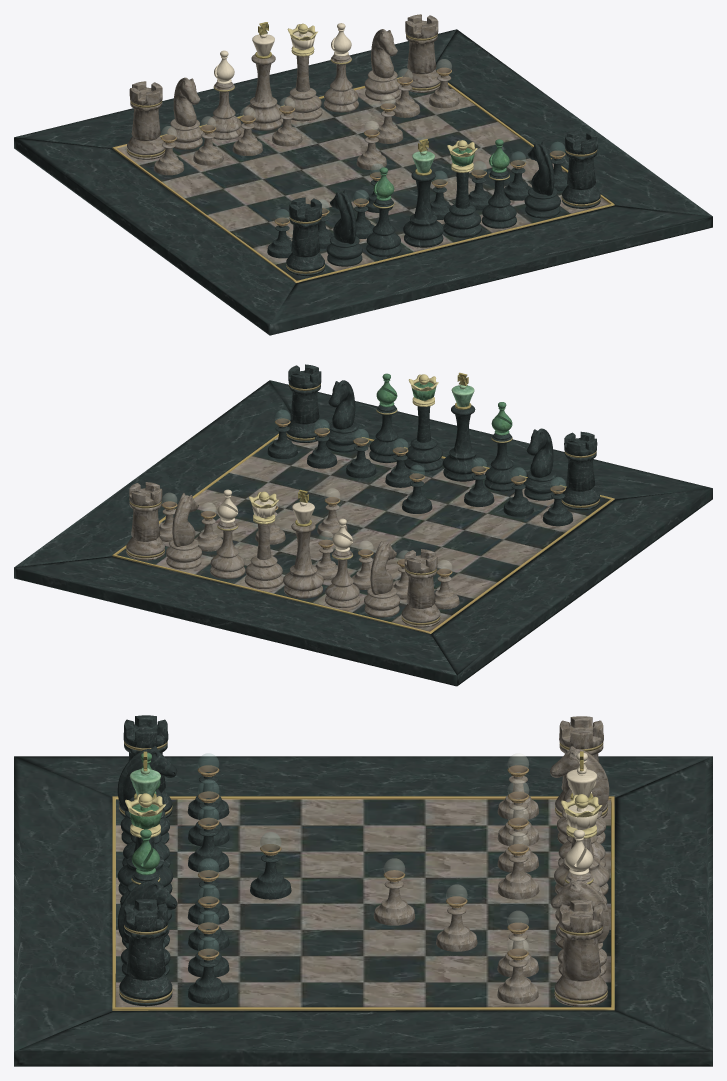
The model's file is a-beautiful-game.glb.
The picture shows the model from 3 angles, top to bottom: view 1: azimuth 30°, elevation 25°; view 2: azimuth 150°, elevation 25°; view 3: azimuth 270°, elevation 25°; orthographic projection. The views are drawn at different scales.
Parts seen in each view (by area): view 1: Chessboard, Pawn_Body_Shared (×13), Castle_B2, Castle_B1, Castle_W2, King_B, Castle_W1, Queen_B, King_W, Queen_W, Knight_W1, Knight_B1 (+6 smaller); view 2: Chessboard, Pawn_Body_Shared (×13), Castle_W2, Castle_W1, Castle_B1, King_W, Castle_B2, King_B, Queen_W, Queen_B, Knight_W1, Knight_W2 (+6 smaller); view 3: Chessboard, Pawn_Body_Shared (×16), Castle_B2, Castle_W1, Castle_B1, Knight_B1, Castle_W2, Knight_W2, King_W, King_B, Queen_B, Queen_W (+6 smaller).
Boxes of the visible parts, bbox=[...] form: Chessboard: bbox=[14, 29, 712, 335]; Pawn_Body_Shared (×13): bbox=[154, 67, 531, 258]; Castle_B2: bbox=[562, 130, 600, 208]; Castle_B1: bbox=[286, 197, 324, 276]; Castle_W2: bbox=[127, 81, 165, 159]; King_B: bbox=[403, 138, 443, 247]; Castle_W1: bbox=[403, 14, 440, 92]; Queen_B: bbox=[443, 140, 481, 237]; King_W: bbox=[243, 22, 283, 130]; Queen_W: bbox=[284, 23, 322, 121]; Knight_W1: bbox=[364, 29, 400, 101]; Knight_B1: bbox=[326, 190, 362, 266]; Chessboard: bbox=[14, 380, 712, 686]; Pawn_Body_Shared (×13): bbox=[195, 418, 573, 609]; Castle_W2: bbox=[401, 549, 440, 627]; Castle_W1: bbox=[126, 482, 164, 560]; Castle_B1: bbox=[561, 431, 599, 510]; King_W: bbox=[283, 489, 323, 598]; Castle_B2: bbox=[286, 364, 323, 442]; King_B: bbox=[442, 372, 483, 481]; Queen_W: bbox=[244, 491, 283, 588]; Queen_B: bbox=[404, 374, 442, 471]; Knight_W1: bbox=[166, 493, 201, 569]; Knight_W2: bbox=[364, 541, 400, 617]; Chessboard: bbox=[14, 756, 712, 1066]; Pawn_Body_Shared (×16): bbox=[187, 765, 539, 1004]; Castle_B2: bbox=[119, 899, 172, 1006]; Castle_W1: bbox=[554, 900, 607, 1006]; Castle_B1: bbox=[119, 715, 172, 817]; Knight_B1: bbox=[117, 746, 177, 844]; Castle_W2: bbox=[555, 716, 607, 818]; Knight_W2: bbox=[550, 746, 609, 844]; King_W: bbox=[554, 751, 609, 895]; King_B: bbox=[117, 751, 173, 895]; Queen_B: bbox=[120, 793, 171, 920]; Queen_W: bbox=[555, 794, 607, 921].
Bounding box in the file's own units: 0.7054 × 0.169 × 0.7054.
Materials: 15 (13 with a texture image).
